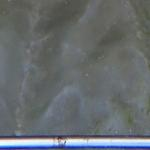dead: (7, 7, 142, 133)
